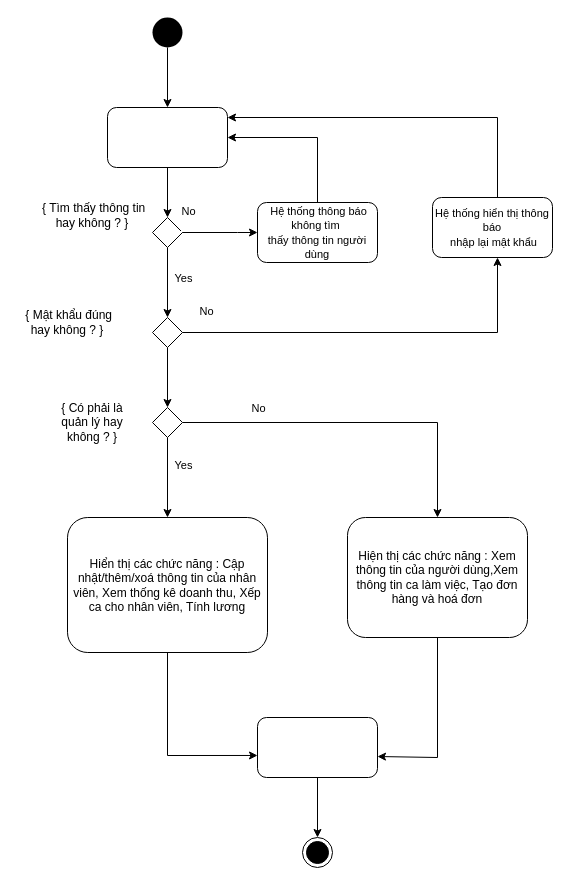
Some shapes in this 570 by 885 pixel diagram are drawn without their labels. Here are the shapes that lost their labels. From the top down, the centre of each, then its label:
At (x=167, y=137): "Người dùng nhập tài khoản và mật khẩu".
At (x=317, y=747): "Chuyển về giao diện chính cho người dùng".
